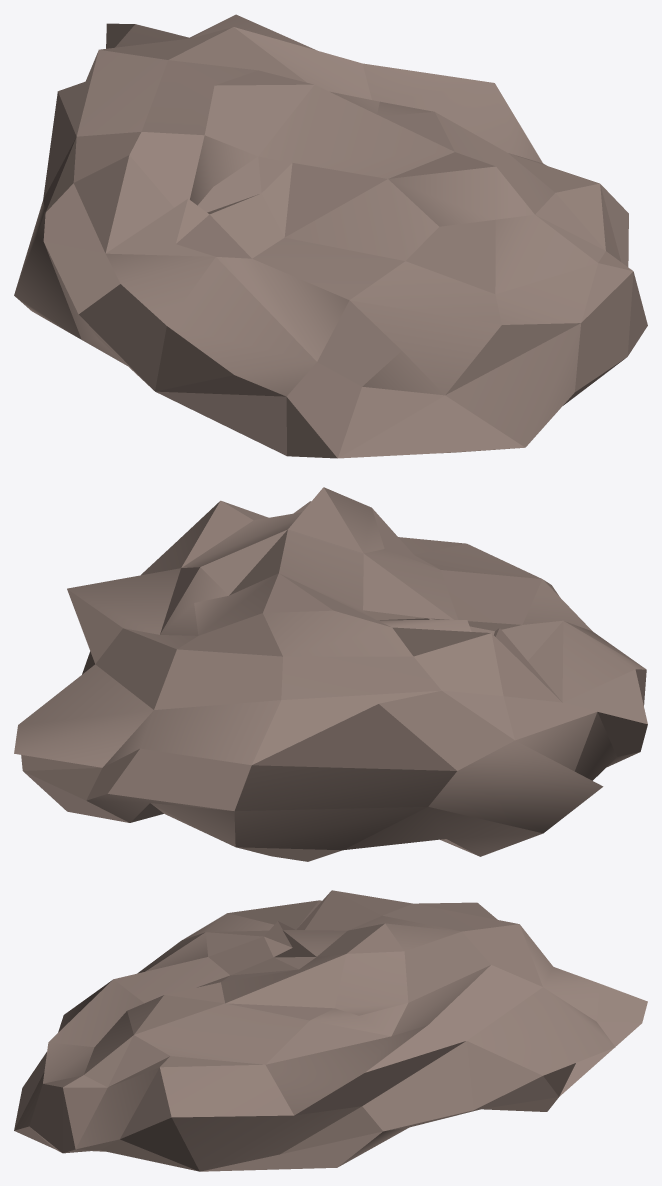
The model's file is rock17.fbx.
3 renders of one model, top to bottom at view 1: azimuth 30°, elevation 25°; view 2: azimuth 150°, elevation 25°; view 3: azimuth 270°, elevation 25°, orthographic. The views are drawn at different scales.
Parts seen in each view (by area): view 1: rock17; view 2: rock17; view 3: rock17.
Part boxes in pixels (<box>): rock17: <box>14,14,647,458</box>; rock17: <box>14,487,647,861</box>; rock17: <box>14,890,647,1171</box>.
Size of the model in its own units: 4.95 by 2.21 by 6.53.
